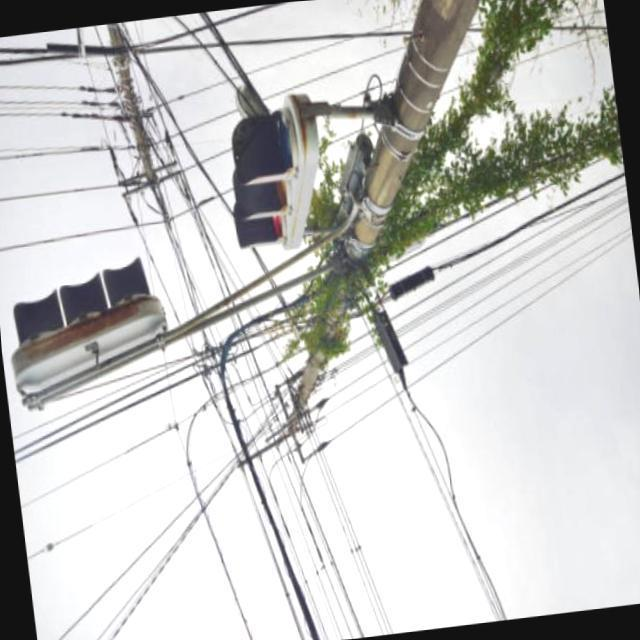critical vegetation: (312, 188, 440, 284), (279, 278, 365, 376)
